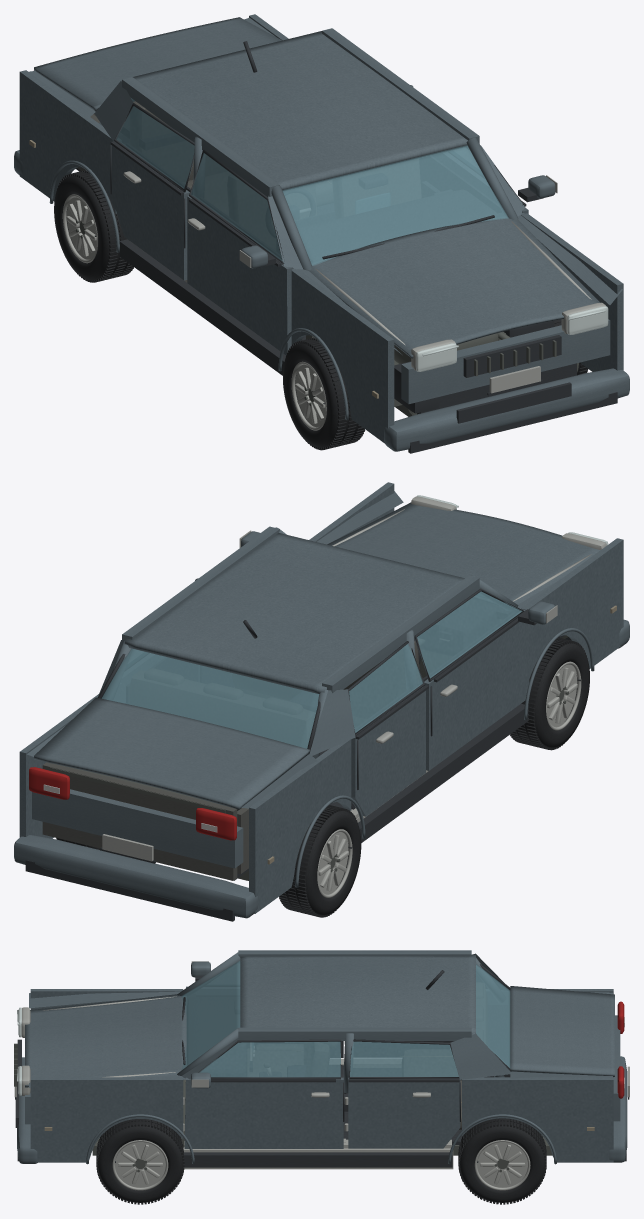
Rendered from PZ-196_PZ141_Driving_Sedan_v01.glb.
3 renders of one model, top to bottom at view 1: azimuth 30°, elevation 25°; view 2: azimuth 150°, elevation 25°; view 3: azimuth 270°, elevation 25°, orthographic. The views are drawn at different scales.
Parts seen in each view (by area): view 1: Roof_Panel_Body_Upper, Hood_Opening_Painted_Sheet, Front_Windshield_Laminated_Transparent, LEFT_Front_Fender_WheelArch_RealCut, Door_LEFT_FRONT_Painted_OuterSkin, Trunk_Lid_Opens, LEFT_Rear_Quarter_WheelArch_RealCut, Front_Bumper_Reinforcement, Door_LEFT_REAR_Painted_OuterSkin, Cockpit_Main_Dashboard_DarkShell, Front_Fascia_Lower_Grille_Header, Door_LEFT_FRONT_Moveable_TintedGlass (+33 smaller); view 2: Roof_Panel_Body_Upper, Trunk_Lid_Opens, Hood_Opening_Painted_Sheet, Rear_Windscreen_Transparent, Door_LEFT_FRONT_Painted_OuterSkin, LEFT_Rear_Quarter_WheelArch_RealCut, Rear_Bumper_Reinforcement, Rear_Tail_Quarter_Tie, LEFT_Front_Fender_WheelArch_RealCut, Door_LEFT_REAR_Painted_OuterSkin, RearBench_Backrest, Boot_Felt_Dark_InnerRearWall (+25 smaller); view 3: Roof_Panel_Body_Upper, Hood_Opening_Painted_Sheet, Door_RIGHT_FRONT_Painted_OuterSkin, RIGHT_Front_Fender_WheelArch_RealCut, RIGHT_Rear_Quarter_WheelArch_RealCut, Trunk_Lid_Opens, Door_RIGHT_REAR_Painted_OuterSkin, Door_RIGHT_FRONT_Moveable_TintedGlass, RIGHT_Side_Rocker_Cladding, Front_Windshield_Laminated_Transparent, Door_RIGHT_REAR_Moveable_TintedGlass, Cockpit_Main_Dashboard_DarkShell (+38 smaller).
Boxes of the visible parts, left/top/right/bottom form: Roof_Panel_Body_Upper: left=133, top=31, right=467, bottom=190; Hood_Opening_Painted_Sheet: left=308, top=216, right=600, bottom=358; Front_Windshield_Laminated_Transparent: left=282, top=145, right=508, bottom=265; LEFT_Front_Fender_WheelArch_RealCut: left=291, top=269, right=394, bottom=443; Door_LEFT_FRONT_Painted_OuterSkin: left=187, top=195, right=292, bottom=355; Trunk_Lid_Opens: left=34, top=17, right=281, bottom=111; LEFT_Rear_Quarter_WheelArch_RealCut: left=19, top=70, right=121, bottom=213; Front_Bumper_Reinforcement: left=384, top=368, right=629, bottom=451; Door_LEFT_REAR_Painted_OuterSkin: left=113, top=141, right=189, bottom=280; Cockpit_Main_Dashboard_DarkShell: left=277, top=190, right=497, bottom=261; Front_Fascia_Lower_Grille_Header: left=401, top=319, right=610, bottom=404; Door_LEFT_FRONT_Moveable_TintedGlass: left=191, top=153, right=282, bottom=261; Roof_Panel_Body_Upper: left=124, top=533, right=464, bottom=694; Trunk_Lid_Opens: left=34, top=697, right=309, bottom=809; Hood_Opening_Painted_Sheet: left=327, top=502, right=600, bottom=604; Rear_Windscreen_Transparent: left=101, top=648, right=319, bottom=748; Door_LEFT_FRONT_Painted_OuterSkin: left=424, top=609, right=529, bottom=770; LEFT_Rear_Quarter_WheelArch_RealCut: left=249, top=739, right=351, bottom=913; Rear_Bumper_Reinforcement: left=14, top=835, right=257, bottom=918; Rear_Tail_Quarter_Tie: left=32, top=789, right=243, bottom=868; LEFT_Front_Fender_WheelArch_RealCut: left=521, top=538, right=623, bottom=678; Door_LEFT_REAR_Painted_OuterSkin: left=351, top=685, right=425, bottom=816; RearBench_Backrest: left=130, top=671, right=314, bottom=747; Boot_Felt_Dark_InnerRearWall: left=42, top=762, right=237, bottom=880; Roof_Panel_Body_Upper: left=240, top=954, right=475, bottom=1033; Hood_Opening_Painted_Sheet: left=25, top=994, right=186, bottom=1087; Door_RIGHT_FRONT_Painted_OuterSkin: left=184, top=1077, right=343, bottom=1148; RIGHT_Front_Fender_WheelArch_RealCut: left=30, top=1077, right=183, bottom=1162; RIGHT_Rear_Quarter_WheelArch_RealCut: left=462, top=1077, right=613, bottom=1162; Trunk_Lid_Opens: left=510, top=986, right=614, bottom=1076; Door_RIGHT_REAR_Painted_OuterSkin: left=348, top=1077, right=460, bottom=1148; Door_RIGHT_FRONT_Moveable_TintedGlass: left=200, top=1041, right=340, bottom=1077; RIGHT_Side_Rocker_Cladding: left=184, top=1152, right=452, bottom=1167; Front_Windshield_Laminated_Transparent: left=181, top=961, right=240, bottom=1069; Door_RIGHT_REAR_Moveable_TintedGlass: left=350, top=1041, right=458, bottom=1076; Cockpit_Main_Dashboard_DarkShell: left=187, top=997, right=246, bottom=1076.
Size of the model in its own units: 2.23 by 1.63 by 4.88.
Materials: 12 (11 with a texture image).
